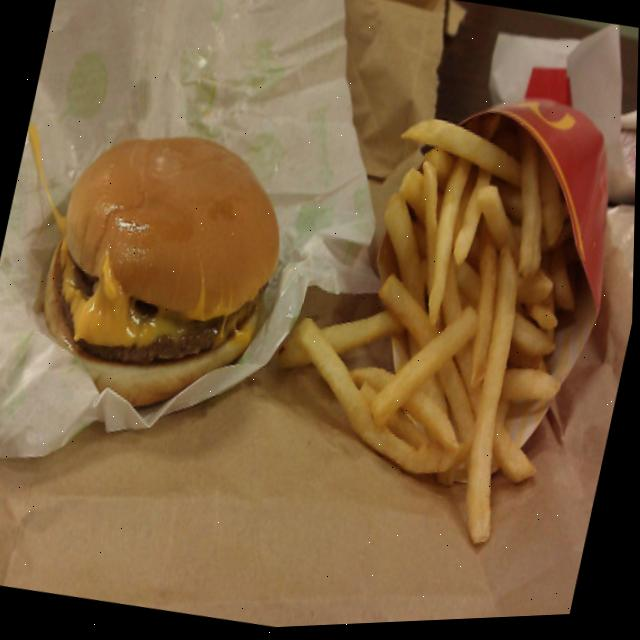汉堡快餐: (0, 89, 315, 412)
炸货点心: (289, 72, 638, 530)
